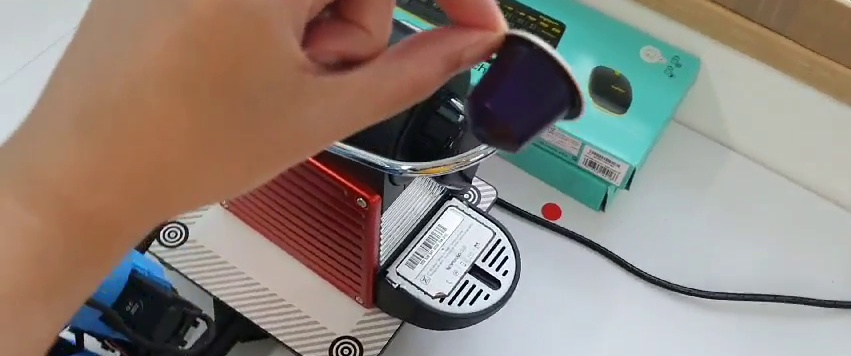capsule_2: (471, 27, 586, 152)
